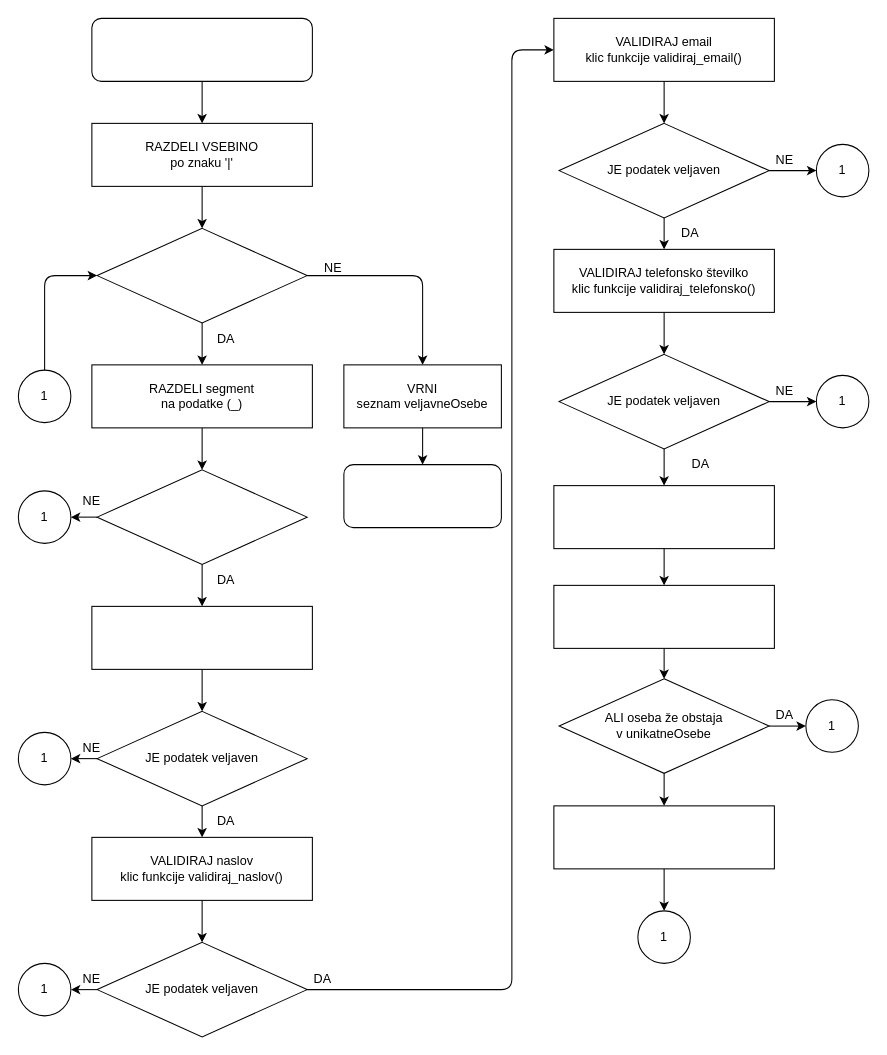
Some shapes in this 887 by 1055 pixel diagram are drawn without their labels. Here are the shapes that lost their labels. From the top down, the centre of each, then its label:
At [201,49]: "ZAČETEK FUNCKIJE locenjePodatkov".
At [201,275]: "ZA VSAK segment".
At [201,516]: "ALI IMA segment dovolj podatkov?".
At [422,496]: "KONEC FUNKCIJE".
At [663,517]: "USTVARI objekt oseba(slovar)".
At [663,616]: "USTVARI identiteto oseba(tuple)".
At [201,637]: "VALIDIRAJ ime in priimek klic funkcije validiraj_ime()".
At [663,837]: "DODAJ V veljavneOsebe in unikatneOsebe".
